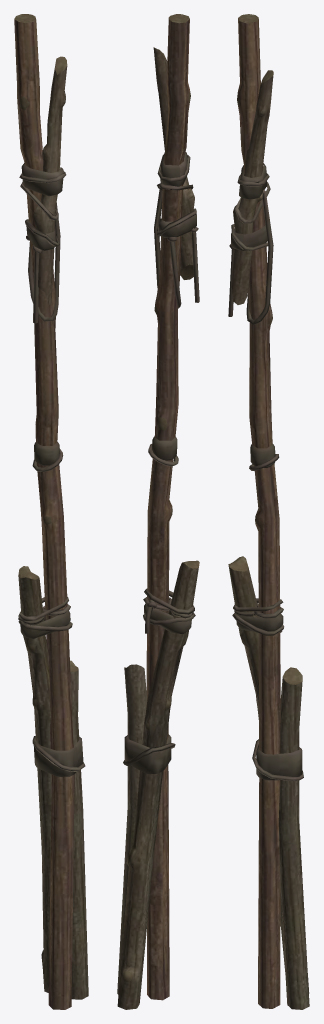
File: GEN_PRO_DockPillar_01B_LOD0-transformed.glb
3 views of the same model, side by side, from view 1: azimuth 30°, elevation 25°; view 2: azimuth 150°, elevation 25°; view 3: azimuth 330°, elevation 25° (orthographic).
Visible parts, largest first — view 1: default; view 2: default; view 3: default.
Part boxes in pixels (x1,y1,x2,y2): default: (14, 14, 88, 1009); default: (117, 14, 199, 1009); default: (228, 14, 309, 1009).
Size of the model in its own units: 0.651 by 8.42 by 0.5685.
2 materials, 2 textured.
